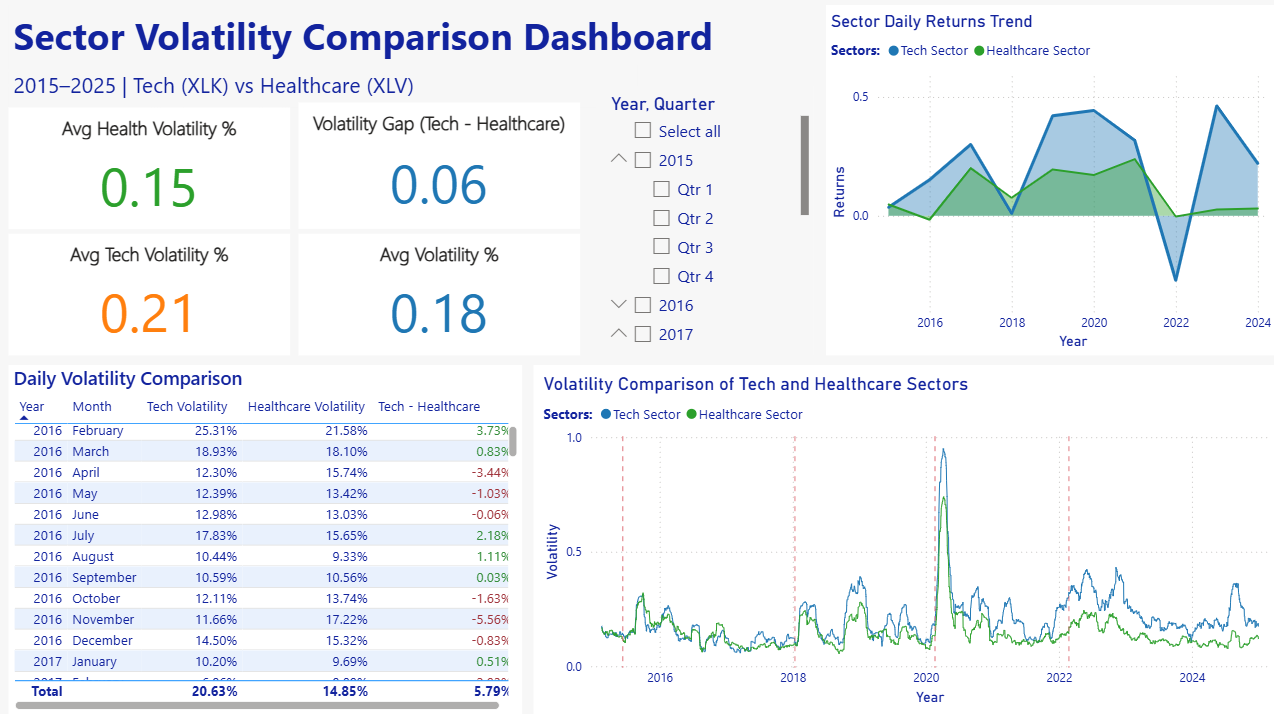

The dashboard page shown, as its layout file describes it:
{"tool":"powerbi","page":{"name":"Page 1","canvas":[1280,720],"ordinal":0},"visuals":[{"type":"textbox","box":[12.5,10,726.2,60],"z":0},{"type":"textbox","box":[12.5,70,628.8,42.5],"z":1000},{"type":"slicer","fields":{"Values":["sector_volatility.Date.Variation.Date Hierarchy.Year","sector_volatility.Date.Variation.Date Hierarchy.Quarter"]},"box":[600,91.2,217.5,268.8],"z":2000},{"type":"card","title":"Avg Health Volatility %","fields":{"Values":["sector_volatility.Avg Health Volatility"]},"box":[12.5,112.5,281.2,121.2],"z":3000},{"type":"card","title":"Avg Tech Volatility %","fields":{"Values":["sector_volatility.Avg Tech Volatility"]},"box":[12.5,238.8,281.2,121.2],"z":4000},{"type":"card","title":"Volatility Gap (Tech - Healthcare)","fields":{"Values":["sector_volatility.Volatility Gap"]},"box":[302.5,107.5,281.2,126.2],"z":5000},{"type":"areaChart","title":"Sector Daily Returns Trend","fields":{"Category":["sector_volatility.Date.Variation.Date Hierarchy.Year","sector_volatility.Date.Variation.Date Hierarchy.Quarter","sector_volatility.Date.Variation.Date Hierarchy.Month","sector_volatility.Date.Variation.Date Hierarchy.Day"],"Y":["Sum(sector_volatility.Returns_XLK)","Sum(sector_volatility.Returns_XLV)"]},"box":[830,10,450,350],"z":6000},{"type":"tableEx","title":"Daily Volatility Comparison","fields":{"Values":["sector_volatility.Date.Variation.Date Hierarchy.Year","sector_volatility.Date.Variation.Date Hierarchy.Month","Avg(sector_volatility.Volatility_XLK)","Avg(sector_volatility.Volatility_XLV)","select"]},"box":[12.5,370,513.8,350],"z":7000},{"type":"lineChart","title":"Volatility Comparison of Tech and Healthcare Sectors","fields":{"Y":["Avg(sector_volatility.Volatility_XLK)","Avg(sector_volatility.Volatility_XLV)"],"Category":["sector_volatility.Date.Variation.Date Hierarchy.Year","sector_volatility.Date.Variation.Date Hierarchy.Quarter","sector_volatility.Date.Variation.Date Hierarchy.Month","sector_volatility.Date.Variation.Date Hierarchy.Day"]},"box":[537.5,370,742.5,350],"z":8000},{"type":"card","title":"Avg Volatility %","fields":{"Values":["sector_volatility.Avg Volatility"]},"box":[302.5,238.8,281.2,121.2],"z":9000}]}

Visuals, with their boxes in screenshot pixels (x1, y1, x2, y2), scaled from the page's 1280x720 canvas onto the 1274x714 screenshot:
textbox: [left=12, top=10, right=735, bottom=69]
textbox: [left=12, top=69, right=638, bottom=112]
slicer - sector_volatility.Date.Variation.Date Hierarchy.Year x sector_volatility.Date.Variation.Date Hierarchy.Quarter: [left=597, top=90, right=814, bottom=357]
"Avg Health Volatility %" card: [left=12, top=112, right=292, bottom=232]
"Avg Tech Volatility %" card: [left=12, top=237, right=292, bottom=357]
"Volatility Gap (Tech - Healthcare)" card: [left=301, top=107, right=581, bottom=232]
"Sector Daily Returns Trend" areaChart: [left=826, top=10, right=1273, bottom=357]
"Daily Volatility Comparison" tableEx: [left=12, top=367, right=524, bottom=713]
"Volatility Comparison of Tech and Healthcare Sectors" lineChart: [left=535, top=367, right=1273, bottom=713]
"Avg Volatility %" card: [left=301, top=237, right=581, bottom=357]
